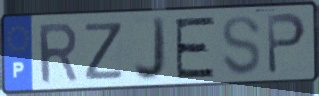E: (173, 14, 217, 81)
J: (132, 15, 168, 84)
P: (265, 11, 308, 77)
R: (36, 20, 80, 87)
S: (220, 13, 263, 78)
Z: (83, 20, 125, 83)
